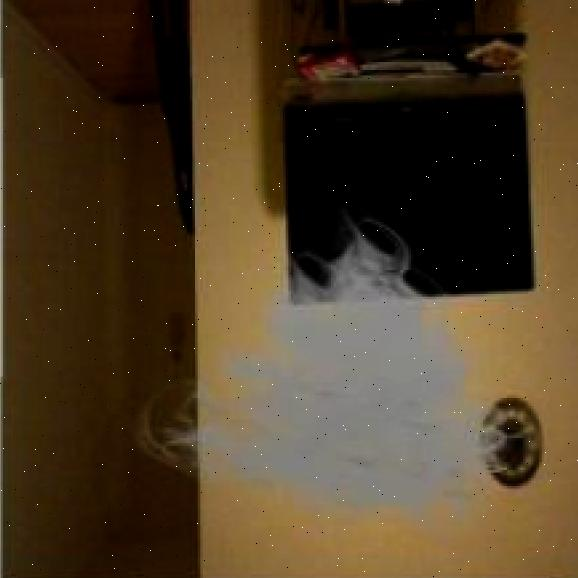smoke: (125, 207, 548, 549)
